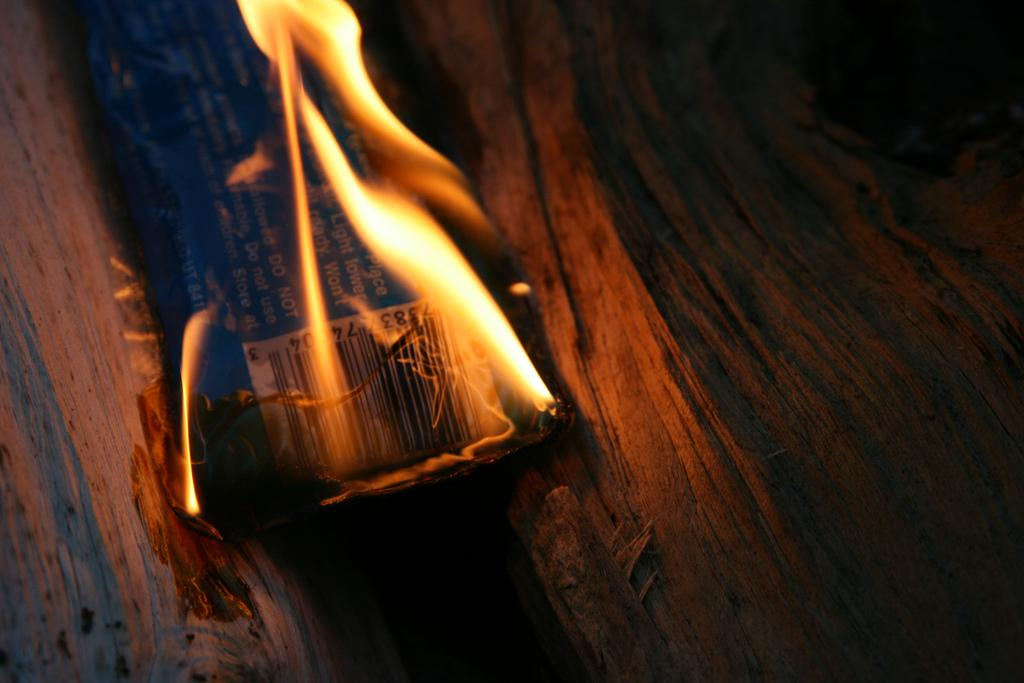fire: (243, 0, 417, 220), (387, 225, 552, 402)
